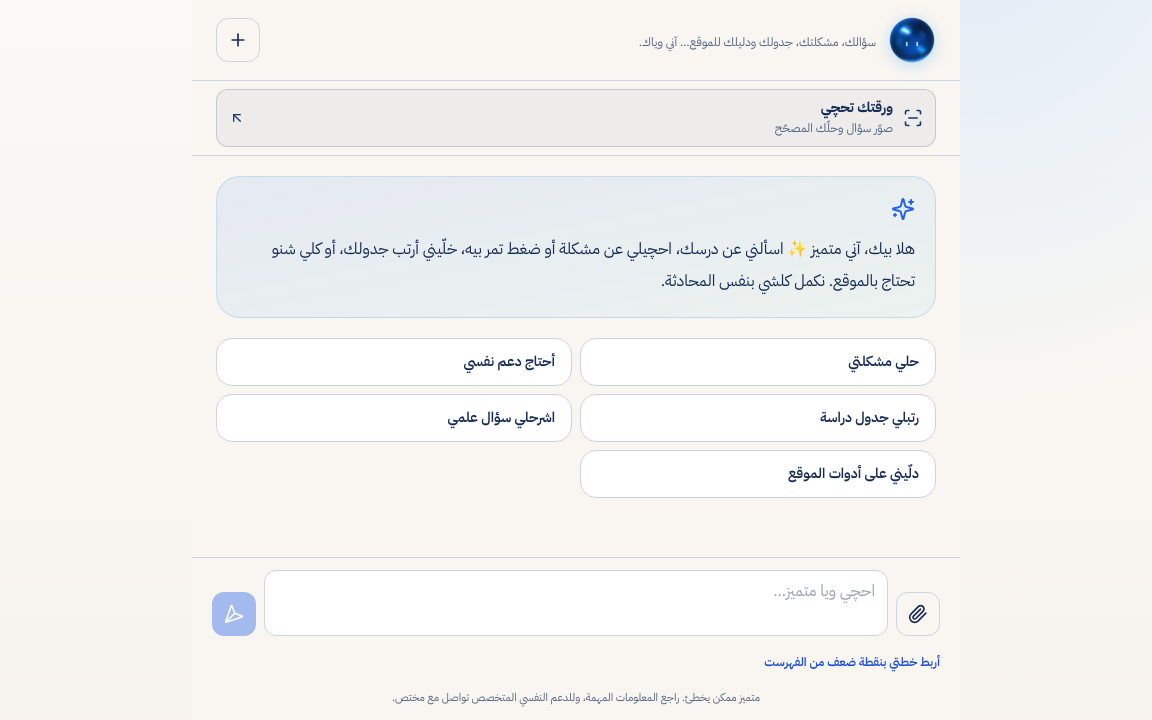
single Mutamayiz conversation › renders source status under the answer and preserves it across entry points
Later steps or results of the test are not shown.
Type "عرّف السعة" into the text box at (576, 603), box [264, 570, 888, 636]
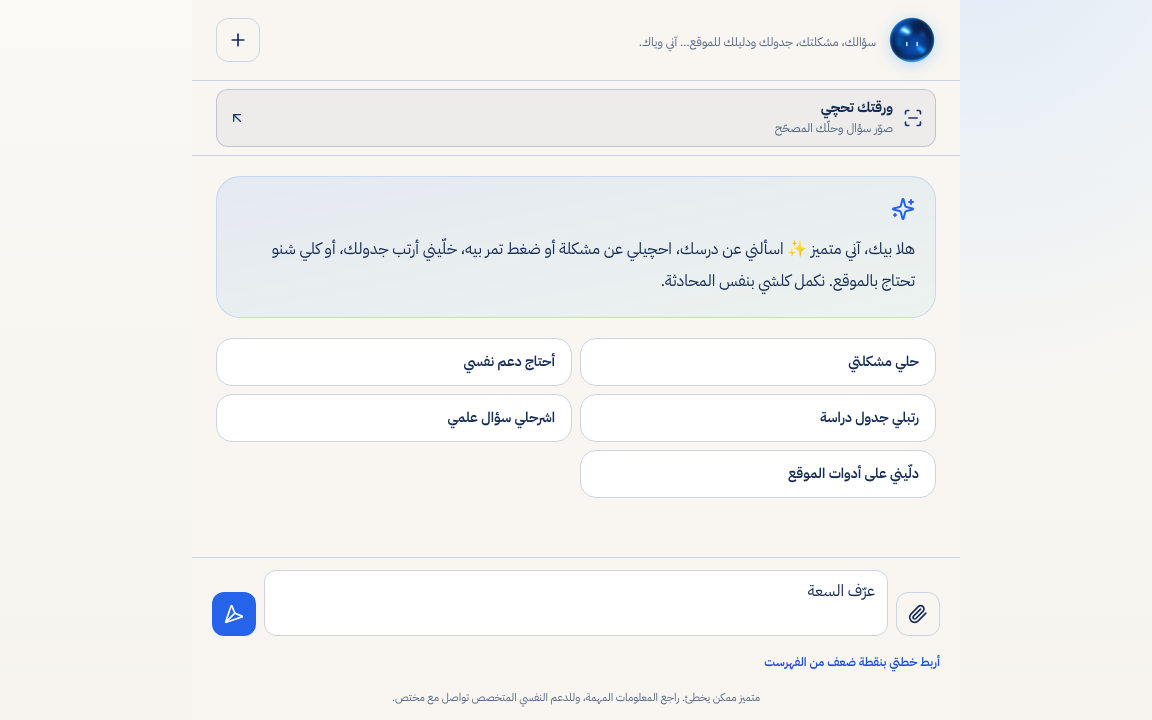
Click the button named "إرسال" at (234, 614), box [212, 592, 256, 636]
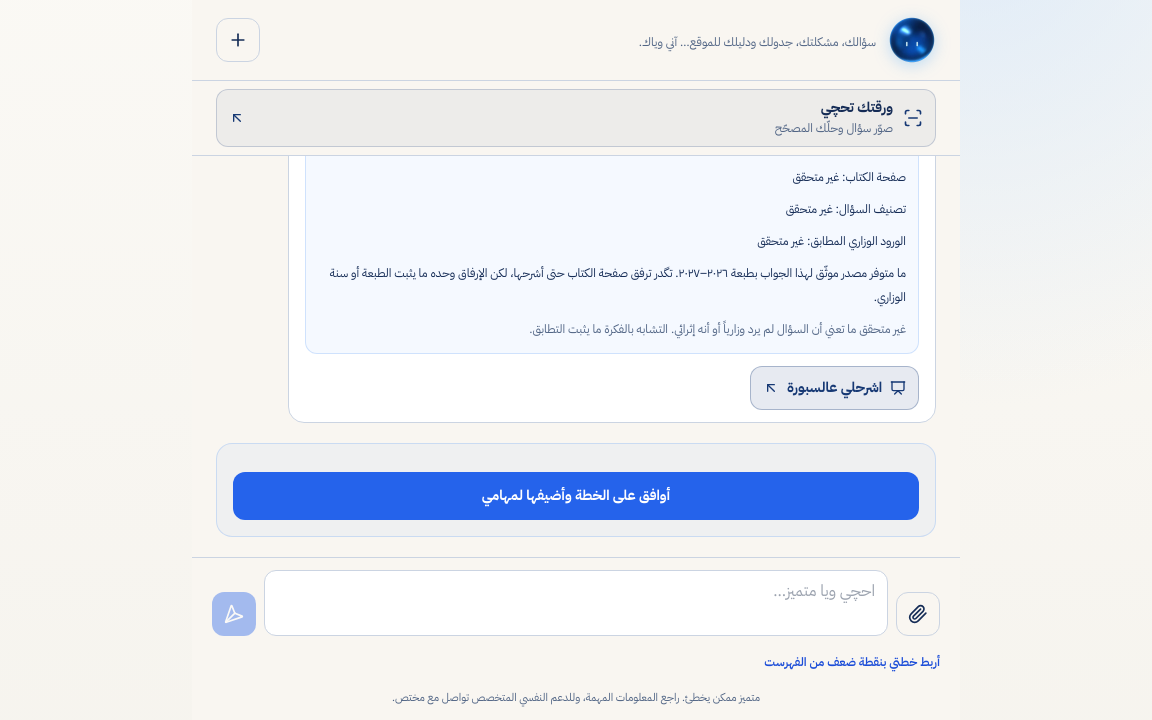
Expected: the element named "مصادر الجواب" shows "صفحة الكتاب: غير متحقق", [305, 156, 919, 354]
